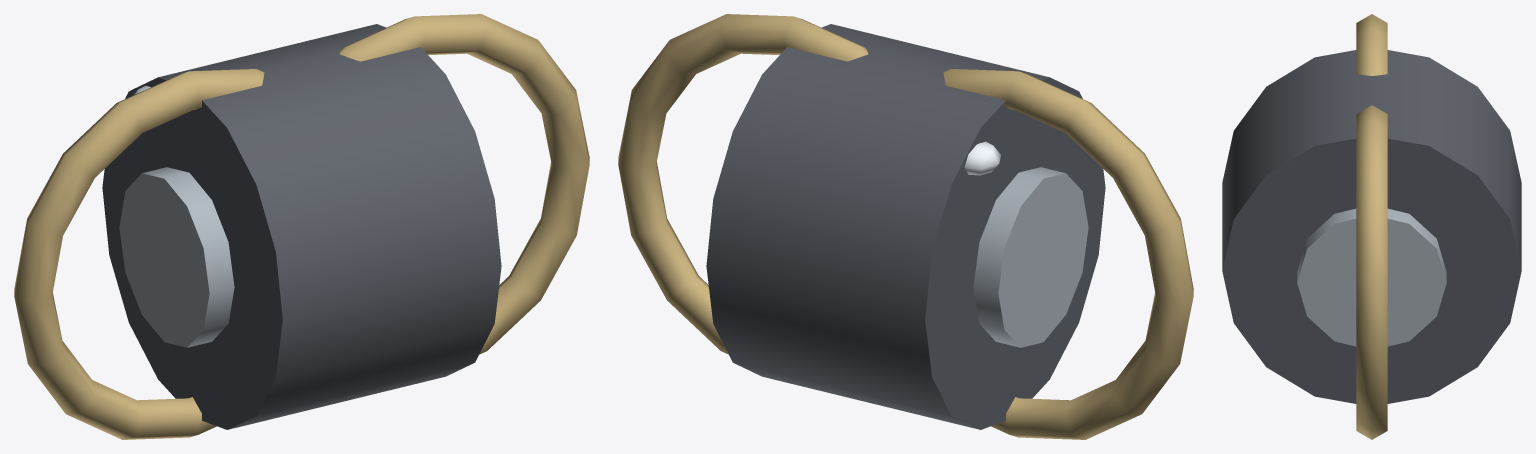
The model's file is restorer_joint.glb.
The picture shows the model from 3 angles, left to right: view 1: azimuth 30°, elevation 25°; view 2: azimuth 150°, elevation 25°; view 3: azimuth 270°, elevation 25°; orthographic projection. The views are drawn at different scales.
Visible parts, largest first — view 1: rs_dark, rs_brass, rs_brass.001, rs_steel; view 2: rs_dark, rs_brass, rs_brass.001, rs_steel, rs_frost.004; view 3: rs_dark, rs_steel.001, rs_brass.001, rs_brass.
Part boxes in pixels (x1,y1,x2,y2): rs_dark: (102, 24, 501, 429); rs_brass: (14, 69, 264, 439); rs_brass.001: (339, 14, 589, 354); rs_steel: (119, 167, 234, 347); rs_dark: (706, 24, 1105, 429); rs_brass: (943, 69, 1193, 439); rs_brass.001: (618, 14, 868, 354); rs_steel: (973, 167, 1088, 347); rs_frost.004: (964, 141, 1000, 175); rs_dark: (1222, 50, 1521, 403); rs_steel.001: (1297, 208, 1446, 346); rs_brass.001: (1356, 105, 1387, 439); rs_brass: (1356, 14, 1387, 75).
Bounding box in the file's own units: 1.84 × 1.12 × 1.
